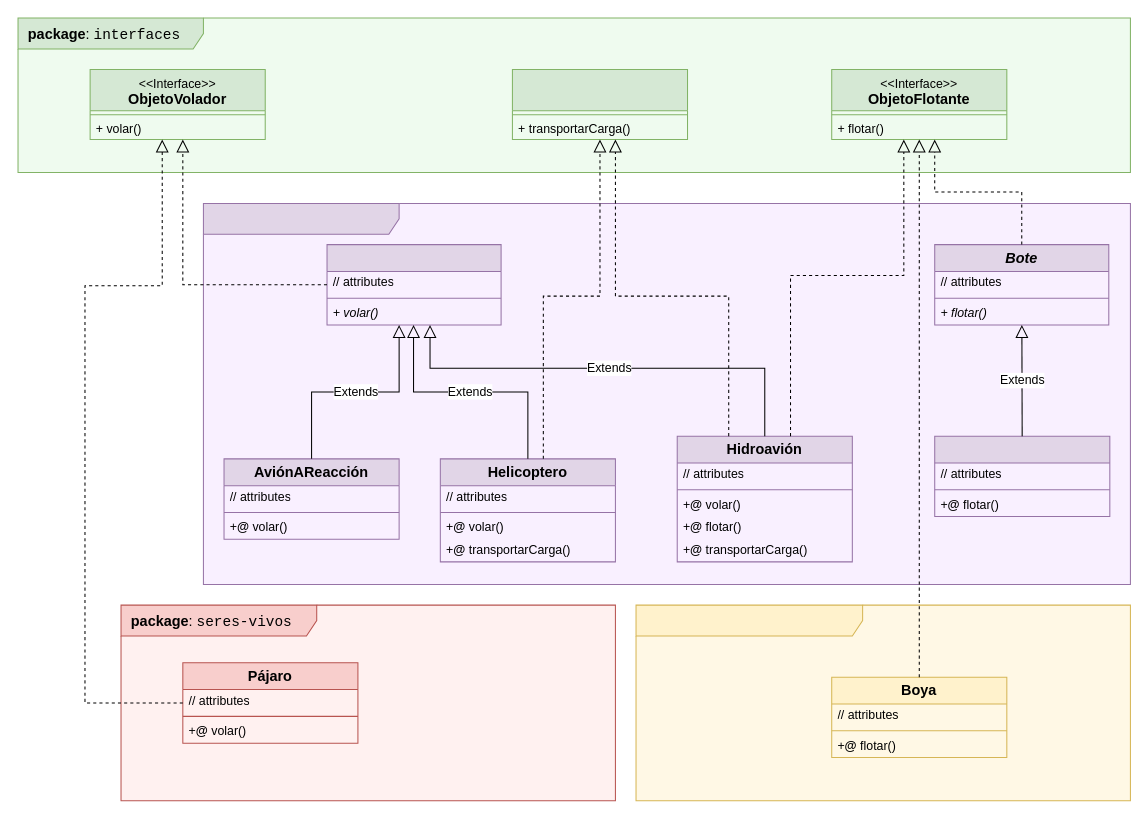
The diagram is 1148 pixels wide and 819 high, and some of its shapes have lost their labels. Each missing label, with the box of its shape:
<<Interface>> TransportadorDeCarga: (511, 68, 688, 140)
AparatoVolador: (326, 244, 501, 325)
package : objetos-del-mar: (635, 604, 1130, 801)
package : transportes: (202, 202, 1130, 585)
Velero: (934, 435, 1110, 517)
